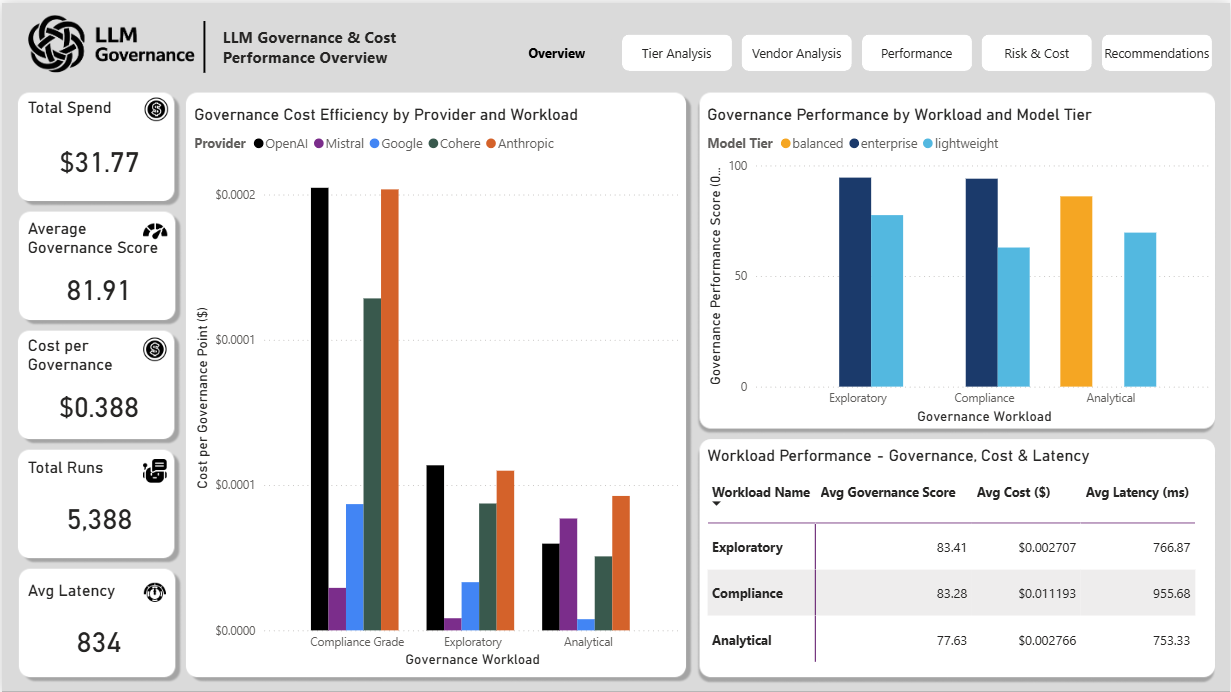

What the dashboard file says about the page in this screenshot:
{"tool":"powerbi","page":{"name":"Overview","canvas":[1280,720],"ordinal":0},"visuals":[{"type":"clusteredColumnChart","title":"Governance Performance by Workload and Model Tier","fields":{"Y":["Avg(vw_governance_benchmark_base.governance_composite_index)"],"Series":["vw_governance_benchmark_base.model_tier"],"Category":["vw_governance_benchmark_base.Workload Name"]},"box":[729.3,105.7,535.6,336],"z":0},{"type":"clusteredColumnChart","title":"Governance Cost Efficiency by Provider and Workload","fields":{"Y":["Avg(vw_cost_per_governance_point.cost_per_governance_point)"],"Series":["vw_cost_per_governance_point.provider"],"Category":["vw_cost_per_governance_point.Workload Label"]},"box":[195.2,105.7,516.5,589.9],"z":1000},{"type":"card","title":"Average Governance Score","fields":{"Values":["Measures_Table.Avg Governance Score"]},"box":[22.1,225.2,157.5,105.5],"z":2000},{"type":"card","title":"Cost per Governance ","fields":{"Values":["Measures_Table.Overall Cost per Governance Point"]},"box":[22.1,346.5,157.5,105.5],"z":3000},{"type":"card","title":"Avg Latency","fields":{"Values":["Measures_Table.Avg Latency (ms)"]},"box":[22.1,601.7,157.5,105.5],"z":4000},{"type":"card","title":"Total Runs","fields":{"Values":["Measures_Table.Total Experiments"]},"box":[22.1,474.1,157.5,105.5],"z":5000},{"type":"card","title":"Total Spend ","fields":{"Values":["Measures_Table.Total LLM Spend"]},"box":[21.8,99.1,158.2,111.8],"z":6000},{"type":"pivotTable","title":"Workload Performance - Governance, Cost & Latency","fields":{"Rows":["vw_governance_benchmark_base.Workload Name"],"Values":["Avg(vw_governance_benchmark_base.governance_composite_index)","Avg(vw_governance_benchmark_base.total_cost)","Avg(vw_governance_benchmark_base.latency_ms)"]},"box":[729.3,460.8,535.6,234.8],"z":7000},{"type":"pageNavigator","box":[520.9,32.3,744,38.2],"z":8000},{"type":"image","box":[22,0,183.4,83.6],"z":9000},{"type":"textbox","box":[225.5,18.2,234.5,54.5],"z":10000},{"type":"shape","box":[195,18.9,31.1,53.9],"z":11000},{"type":"image","box":[147.3,474.5,24.5,24.5],"z":12000},{"type":"image","box":[147.3,601.8,24.5,24.5],"z":13000},{"type":"image","box":[147.3,348.2,24.5,24.5],"z":14000},{"type":"image","box":[148.2,99.1,24.5,24.5],"z":15000},{"type":"image","box":[146.7,225,25,25],"z":16000}]}

Visuals, with their boxes on the page's 1280x720 design canvas (x1, y1, x2, y2). These are canvas units, not pixel positions in the 1231x692 screenshot, which may show the page scaled, cropped or inside an application window:
"Governance Performance by Workload and Model Tier" clusteredColumnChart: 729,106,1265,442
"Governance Cost Efficiency by Provider and Workload" clusteredColumnChart: 195,106,712,696
"Average Governance Score" card: 22,225,180,331
"Cost per Governance " card: 22,346,180,452
"Avg Latency" card: 22,602,180,707
"Total Runs" card: 22,474,180,580
"Total Spend " card: 22,99,180,211
"Workload Performance - Governance, Cost & Latency" pivotTable: 729,461,1265,696
pageNavigator: 521,32,1265,70
image: 22,0,205,84
textbox: 226,18,460,73
shape: 195,19,226,73
image: 147,474,172,499
image: 147,602,172,626
image: 147,348,172,373
image: 148,99,173,124
image: 147,225,172,250
